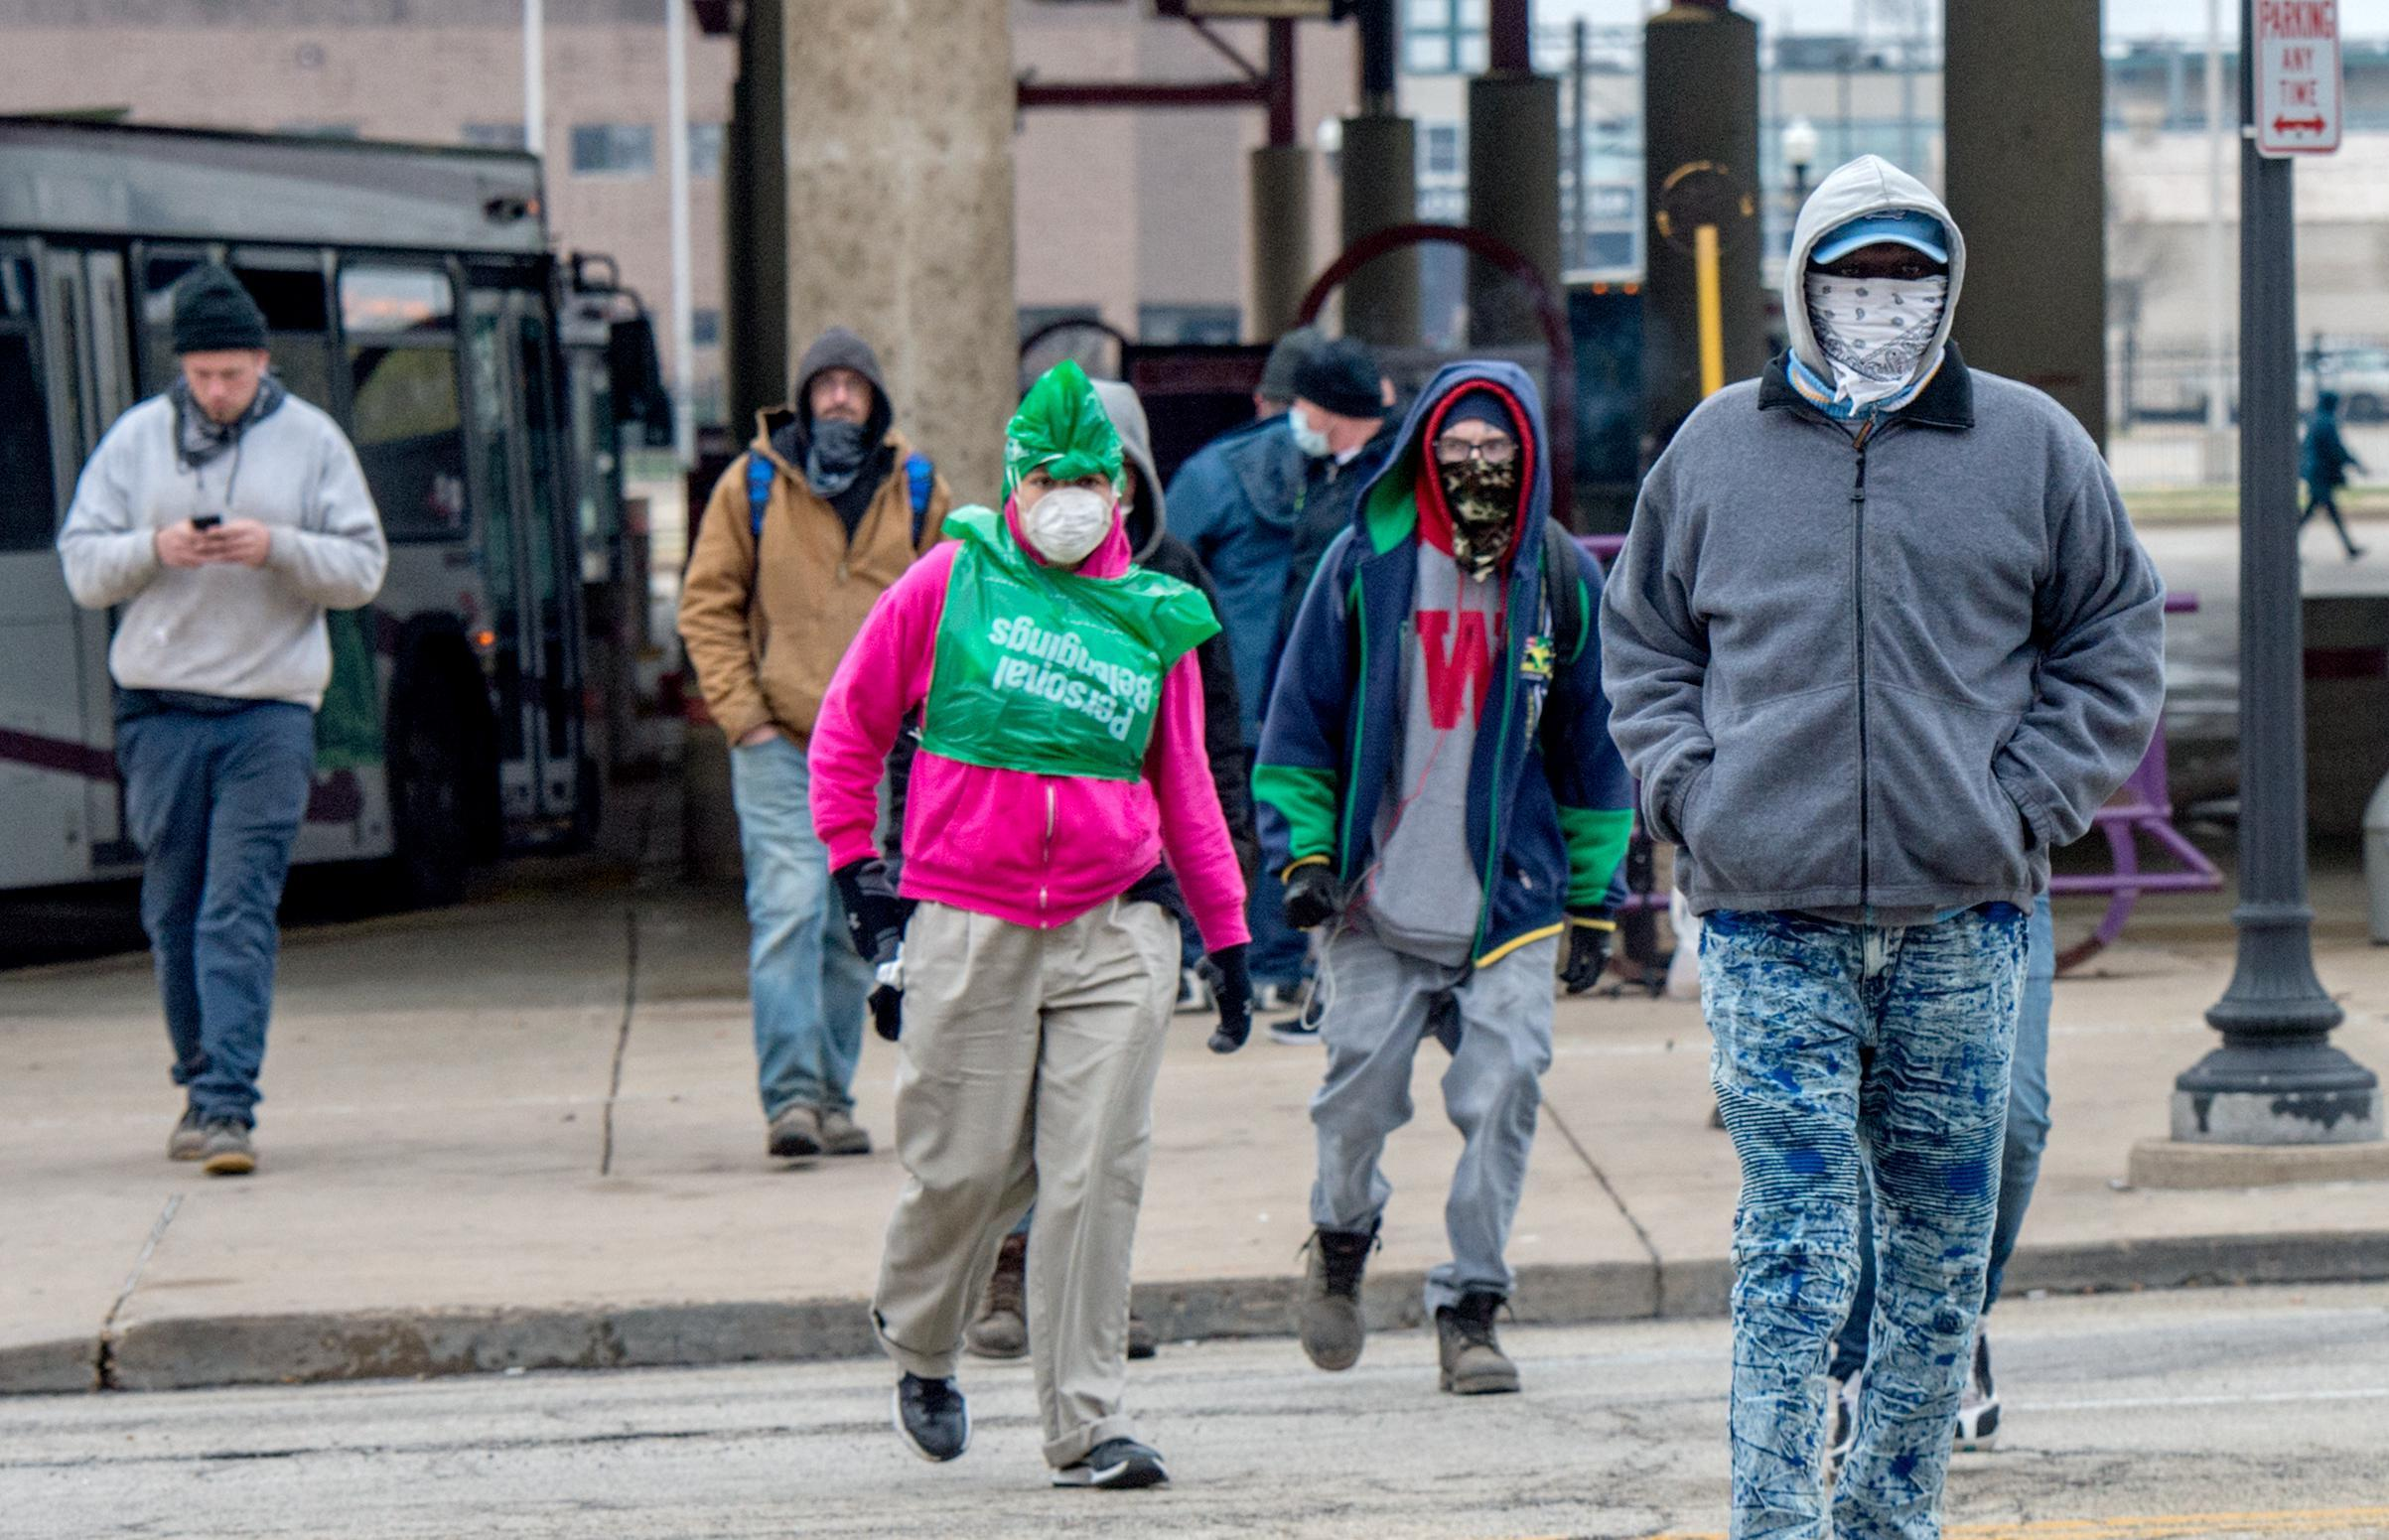person: (1575, 120, 2186, 1539), (769, 348, 1251, 1504), (1251, 332, 1664, 1407), (29, 250, 408, 1225), (650, 324, 981, 1189), (1222, 320, 1409, 476)
